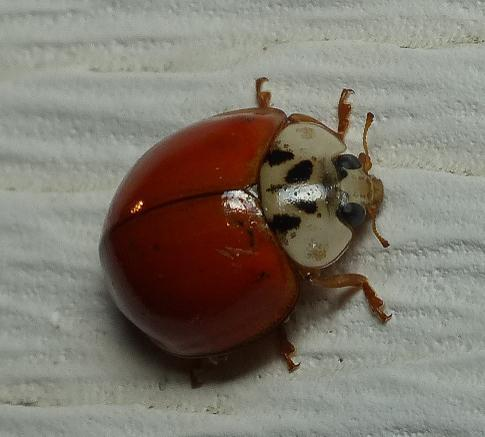ladybug: (100, 75, 399, 390)
